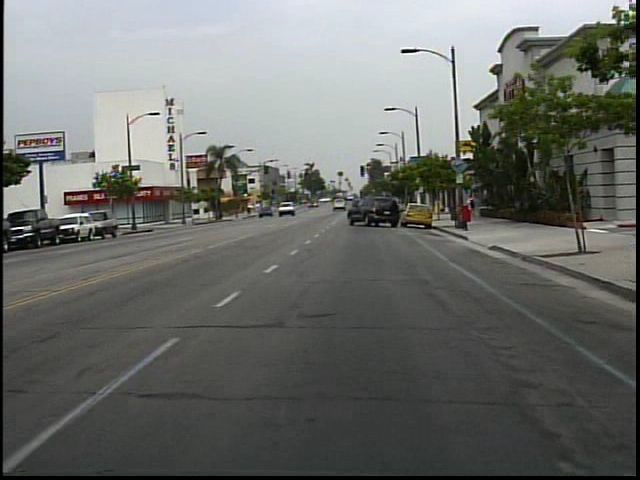person: (465, 192, 478, 207)
